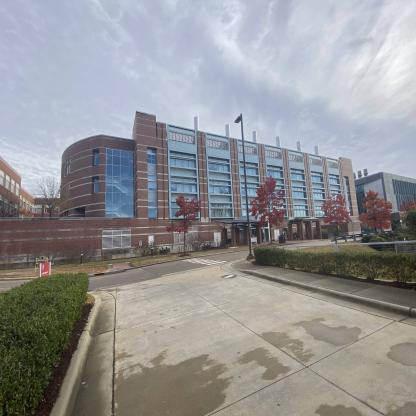EB-1: (47, 110, 369, 257)
